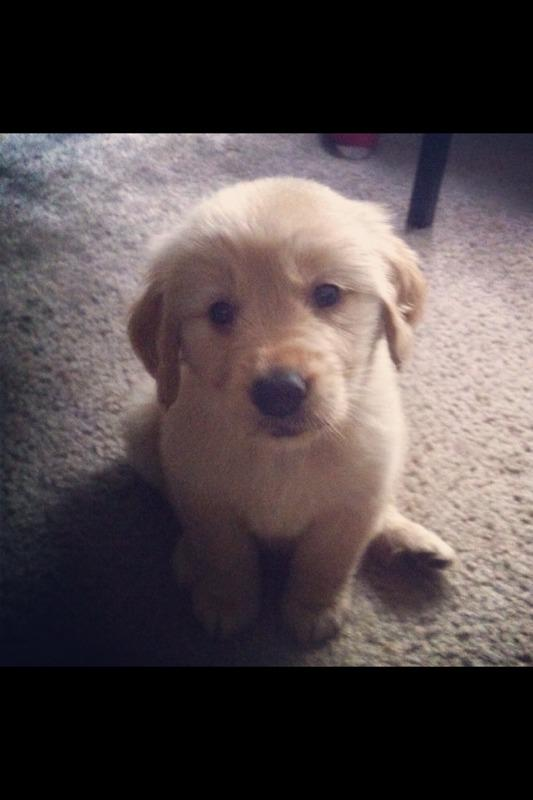puppy-dog: (124, 174, 456, 650)
